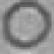no answer: (2, 1, 52, 50)
